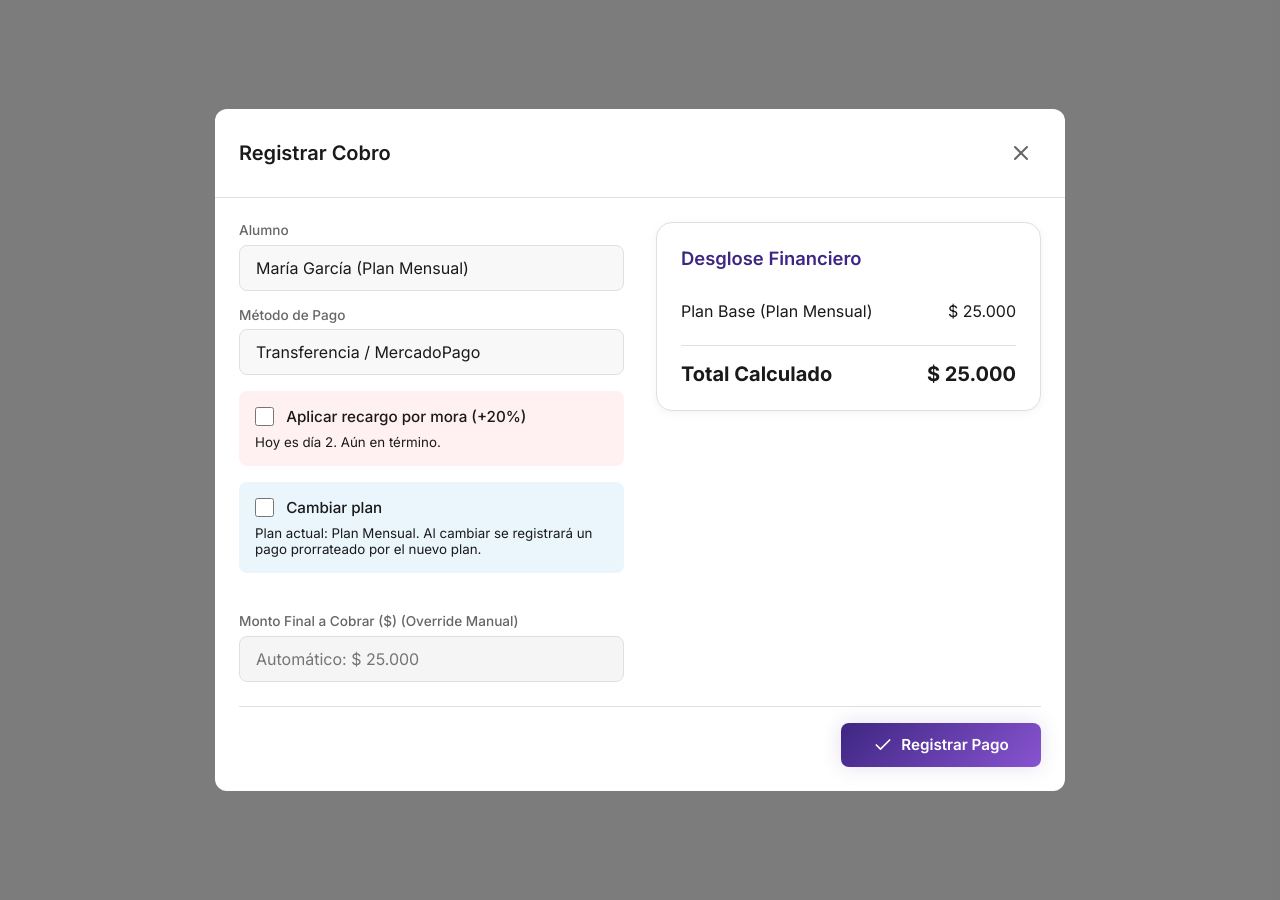
RecordPaymentModal › muestra el selector de nuevo plan cuando se activa el cambio de plan
Click the checkbox labelled "Cambiar plan". click: (265, 508)
box: [255,498,274,517]
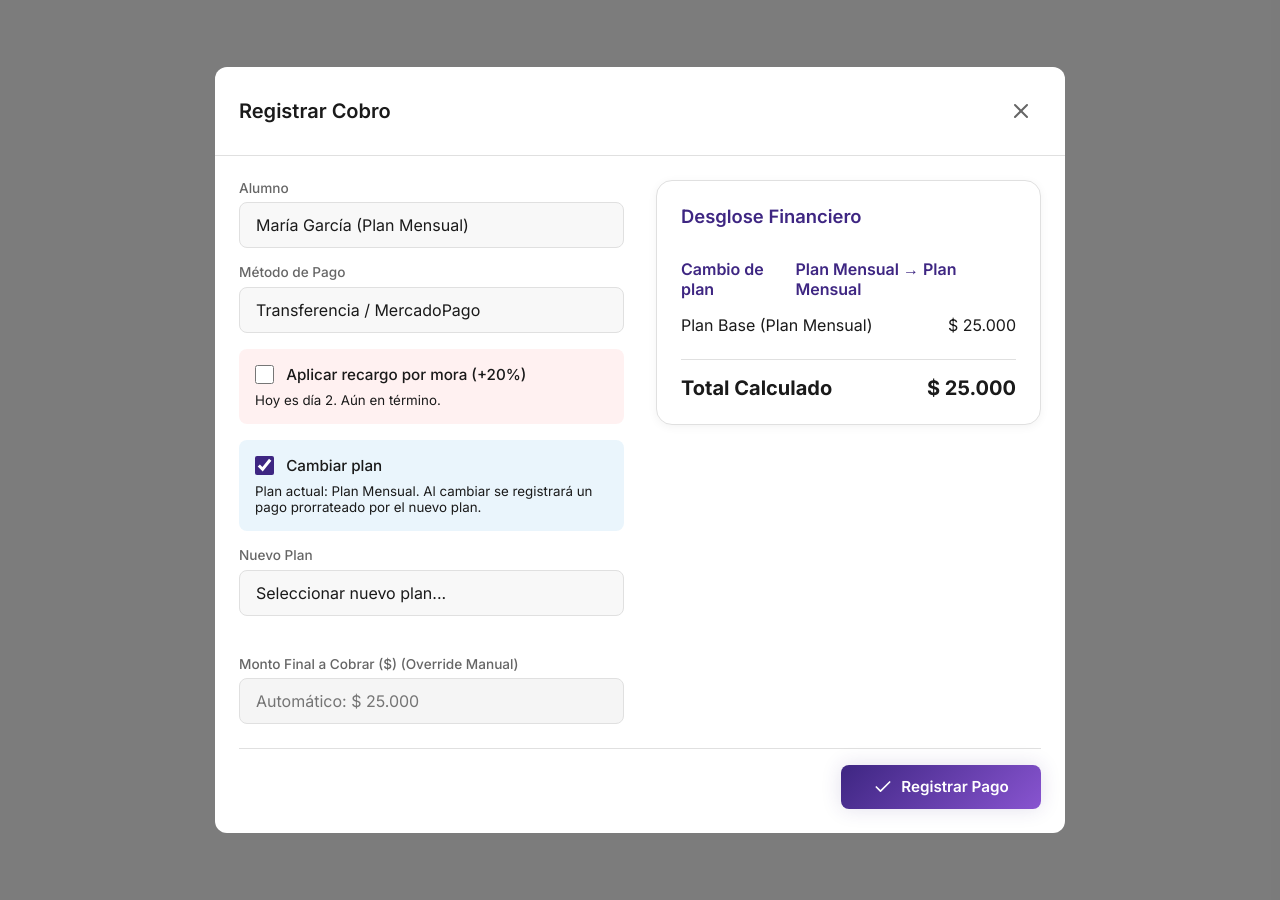
Result: the dropdown named "Nuevo Plan" is shown at [239,570,624,616]
